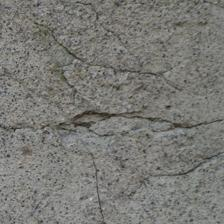Crack: (13, 69, 124, 115), (85, 66, 139, 157), (0, 0, 71, 67), (152, 0, 177, 139)
